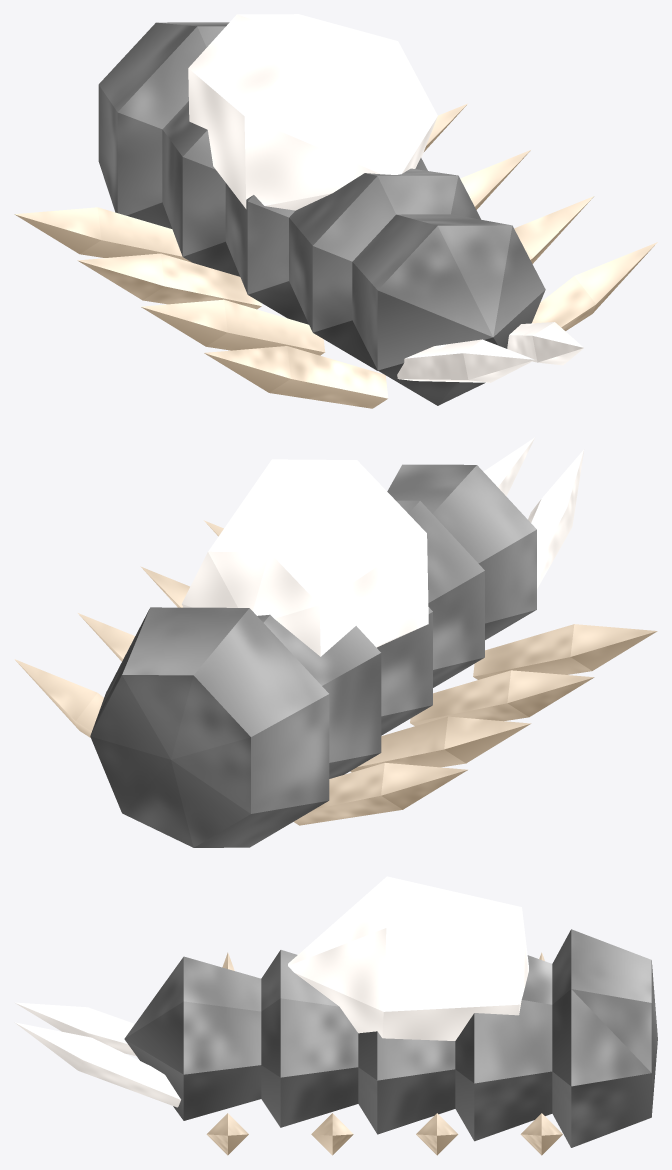
Rendered from deep-fracture-creature-CrystalParasite-earth.glb.
3 renders of one model, top to bottom at view 1: azimuth 30°, elevation 25°; view 2: azimuth 150°, elevation 25°; view 3: azimuth 270°, elevation 25°, orthographic. The views are drawn at different scales.
Visible parts, largest first — view 1: regrowth-core, body4, body3, body0, body1, hook-l3, body2, hook-l2, hook-l1, hook-l0, feeding-spike-left, hook-r3 (+3 smaller); view 2: body0, regrowth-core, body4, body1, body3, hook-l3, hook-l2, hook-l0, hook-l1, body2, feeding-spike-left, hook-r0 (+3 smaller); view 3: regrowth-core, body0, body4, body3, body1, body2, feeding-spike-right, feeding-spike-left, hook-r0, hook-r1, hook-r3, hook-r2.
Boxes of the visible parts, <box> form: regrowth-core: <box>188,14,437,210</box>; body4: <box>352,214,545,405</box>; body3: <box>289,168,480,370</box>; body0: <box>98,22,229,228</box>; body1: <box>162,101,239,276</box>; hook-l3: <box>204,346,388,408</box>; body2: <box>225,158,427,324</box>; hook-l2: <box>141,299,325,355</box>; hook-l1: <box>77,253,261,309</box>; hook-l0: <box>14,207,191,262</box>; feeding-spike-left: <box>397,339,534,382</box>; hook-r3: <box>532,242,657,330</box>; body0: <box>90,607,329,847</box>; regrowth-core: <box>182,459,428,656</box>; body4: <box>387,464,536,639</box>; body1: <box>257,614,381,778</box>; body3: <box>396,500,484,687</box>; hook-l3: <box>473,624,657,679</box>; hook-l2: <box>410,670,594,725</box>; hook-l0: <box>293,763,467,825</box>; hook-l1: <box>350,716,531,772</box>; body2: <box>377,607,432,735</box>; feeding-spike-left: <box>528,449,584,588</box>; hook-r0: <box>14,659,103,737</box>; regrowth-core: <box>288,876,528,1040</box>; body0: <box>552,929,657,1147</box>; body4: <box>124,956,261,1120</box>; body3: <box>261,950,358,1127</box>; body1: <box>455,955,552,1141</box>; body2: <box>358,1031,455,1134</box>; feeding-spike-right: <box>14,1022,180,1107</box>; feeding-spike-left: <box>14,1002,136,1056</box>; hook-r0: <box>520,1113,562,1155</box>; hook-r1: <box>416,1113,458,1155</box>; hook-r3: <box>206,1113,248,1155</box>; hook-r2: <box>311,1113,353,1155</box>.
Size of the model in its own units: 1.12 by 0.7201 by 1.66.
Materials: 4 (4 with a texture image).
